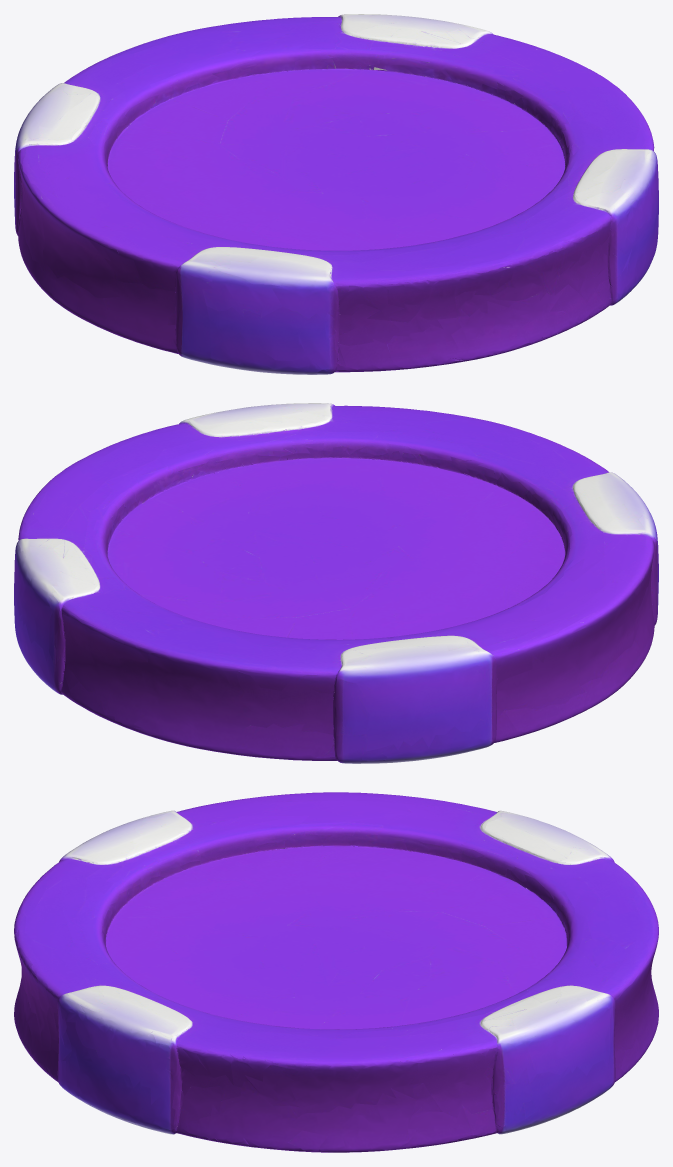
File: coin-purple.glb
The picture shows the model from 3 angles, top to bottom: view 1: azimuth 30°, elevation 25°; view 2: azimuth 150°, elevation 25°; view 3: azimuth 270°, elevation 25°; orthographic projection.
Bounding box in the file's own units: 1.9 × 0.3358 × 1.9.
1 material, 1 textured.
